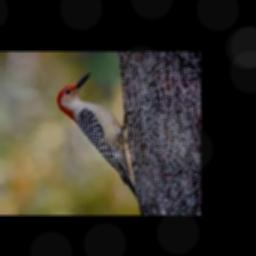Woodpecker: (56, 72, 138, 198)
